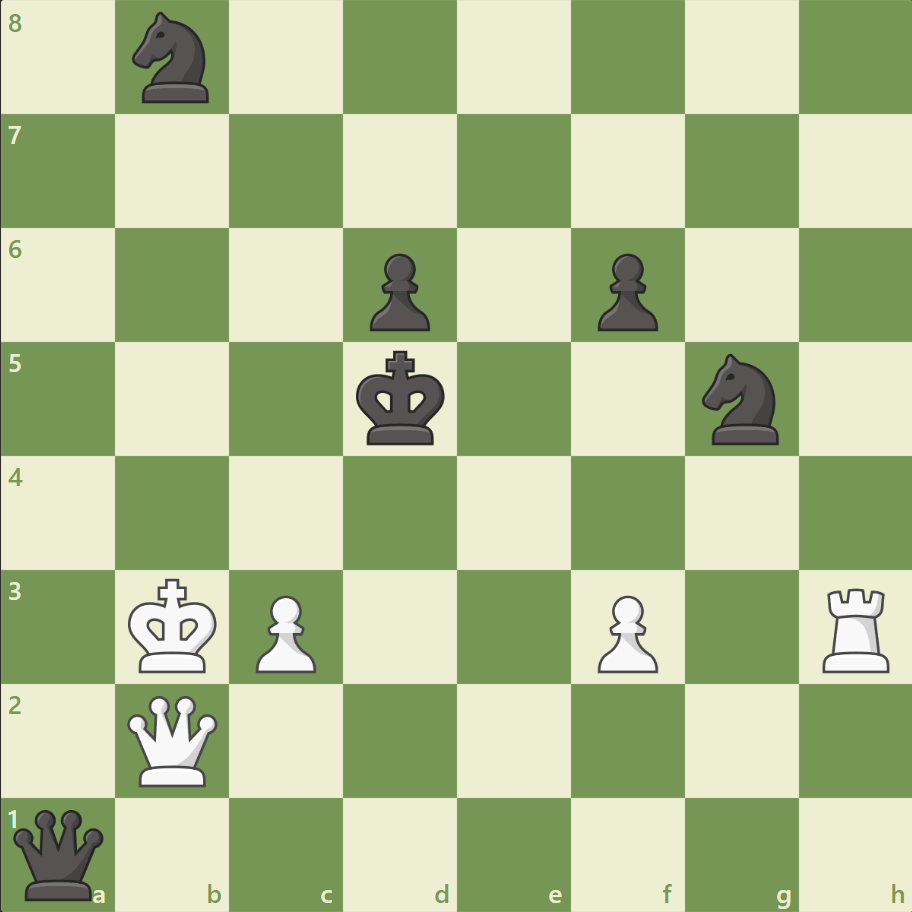K: (124, 571, 224, 679)
P: (247, 586, 322, 677), (588, 586, 662, 677)
Q: (124, 690, 223, 789)
R: (814, 579, 897, 676)
k: (351, 344, 451, 452)
n: (124, 7, 222, 110), (692, 348, 789, 450)
p: (361, 246, 435, 337), (588, 246, 662, 337)
q: (10, 804, 109, 903)
